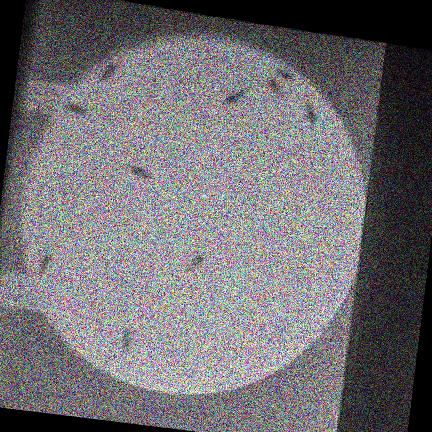fly: (98, 61, 120, 82), (223, 88, 249, 104), (186, 252, 206, 271), (267, 74, 283, 97), (129, 164, 153, 178), (38, 253, 52, 276), (305, 101, 318, 124), (64, 102, 88, 114), (275, 66, 294, 81), (121, 326, 132, 350)
